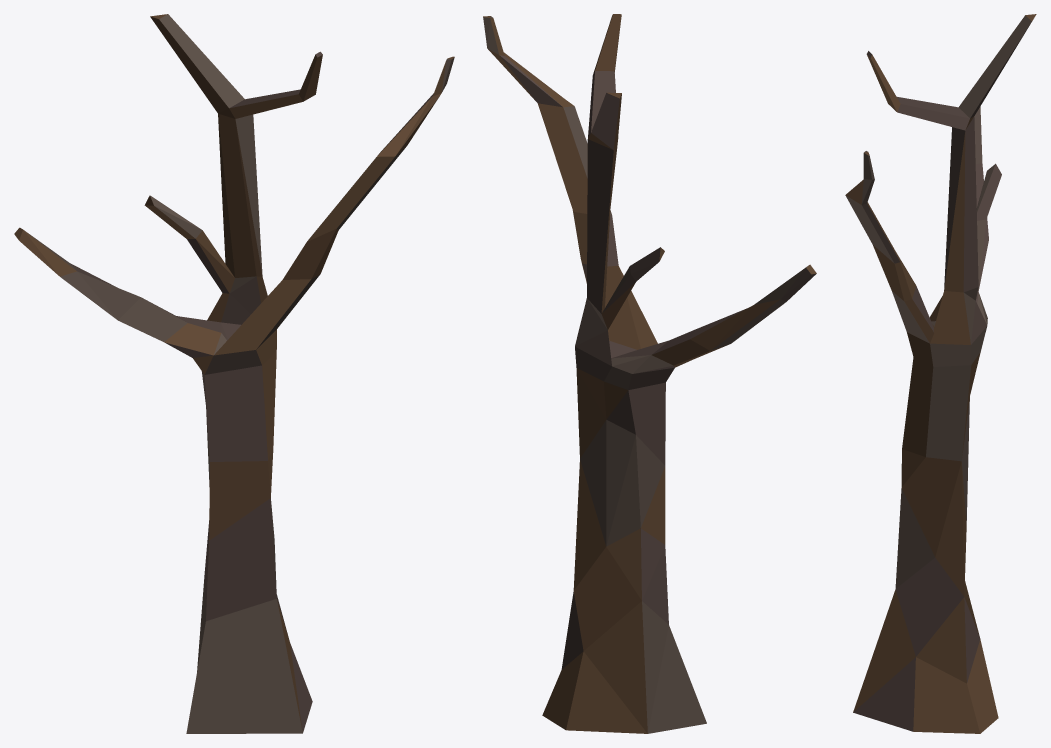
The model's file is DeadTree.glb.
3 renders of one model, left to right at view 1: azimuth 30°, elevation 25°; view 2: azimuth 150°, elevation 25°; view 3: azimuth 270°, elevation 25°, orthographic.
Parts seen in each view (by area): view 1: DeadTree2; view 2: DeadTree2; view 3: DeadTree2.
Part boxes in pixels (bbox=[...]): DeadTree2: bbox=[14, 14, 454, 733]; DeadTree2: bbox=[483, 14, 816, 733]; DeadTree2: bbox=[845, 14, 1036, 733].
Bounding box in the file's own units: 2.12 × 3.52 × 0.9096.
1 material, 1 textured.
